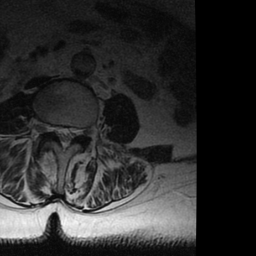CCS_normal: (60, 119, 68, 154)
LFS_stenosis: (76, 119, 84, 144)
LLS_normal: (68, 119, 76, 149)
RFS_normal: (44, 115, 52, 139)
RLS_normal: (52, 117, 60, 143)
